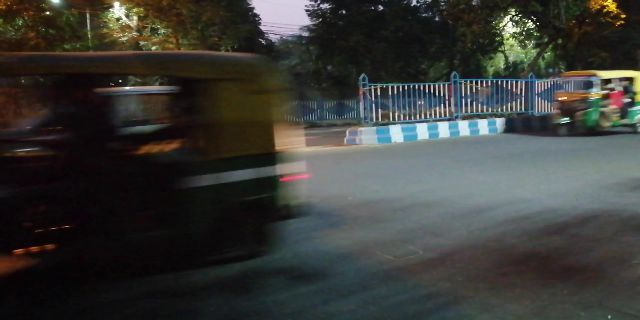Autorickshaw: (10, 50, 295, 256), (552, 66, 636, 138)
